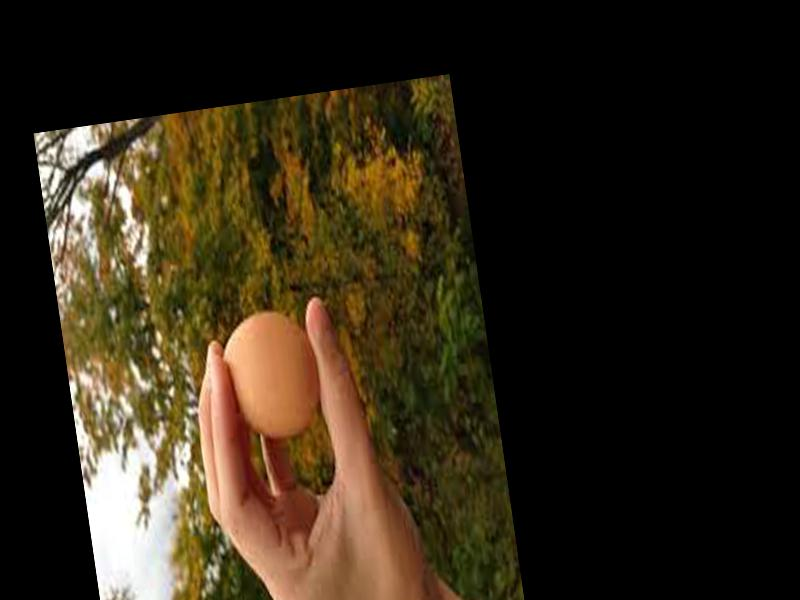Eggs: (216, 306, 326, 442)
